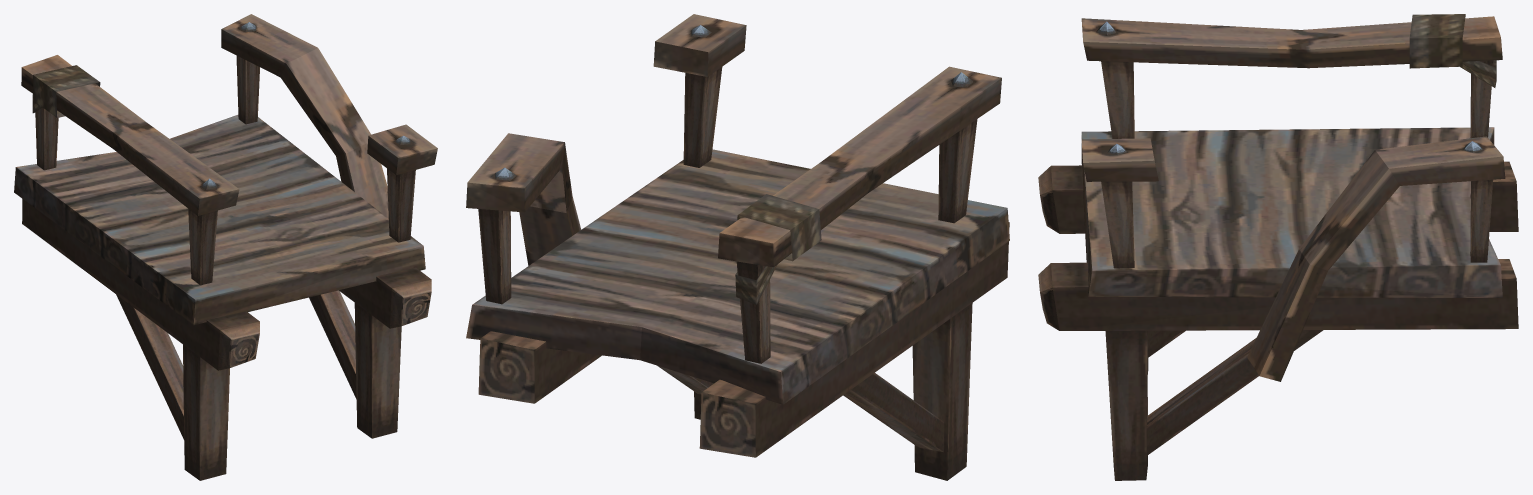
The model's file is mine_platform01.fbx.
3 renders of one model, left to right at view 1: azimuth 30°, elevation 25°; view 2: azimuth 150°, elevation 25°; view 3: azimuth 270°, elevation 25°, orthographic. The views are drawn at different scales.
Visible parts, largest first — view 1: obj0.091; view 2: obj0.091; view 3: obj0.091.
Part boxes in pixels (x1,y1,x2,y2): obj0.091: (14,14,437,480); obj0.091: (466,14,1009,480); obj0.091: (1038,14,1518,480).
Size of the model in its own units: 4.29 by 4.3 by 5.32.
